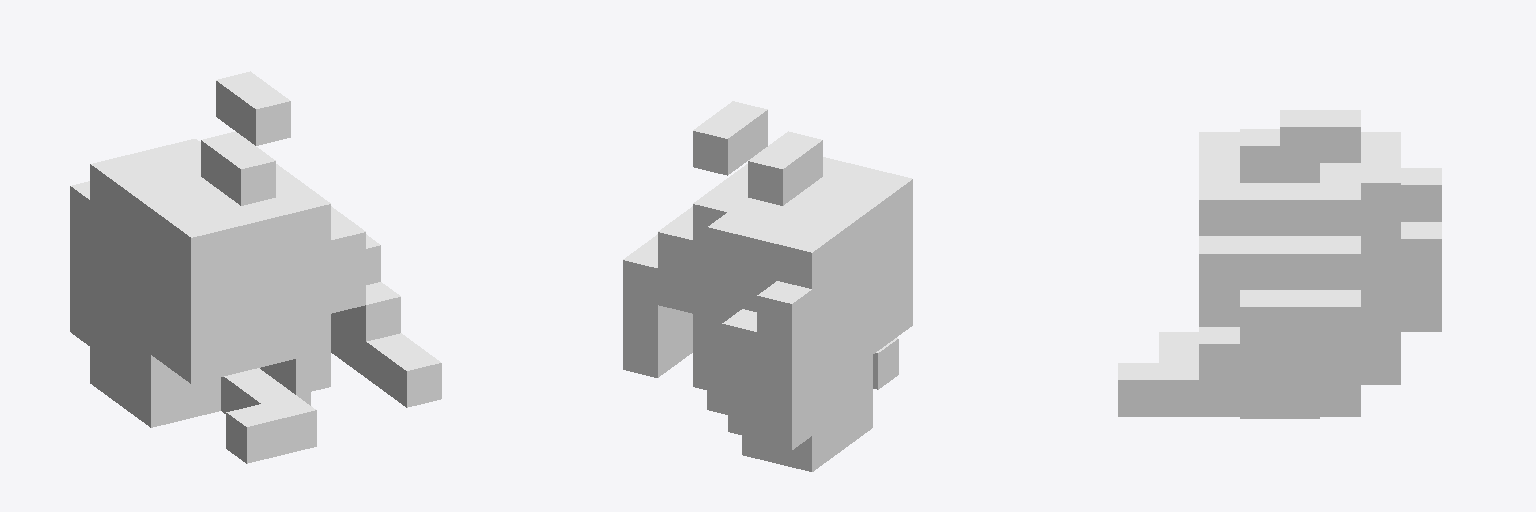
Rendered from SpaceInvader1.3.obj.
3 views of the same model, side by side, from view 1: azimuth 30°, elevation 25°; view 2: azimuth 150°, elevation 25°; view 3: azimuth 270°, elevation 25° (orthographic).
Parts seen in each view (by area): view 1: object 1; view 2: object 1; view 3: object 1.
Boxes of the visible parts, <box> form: object 1: <box>70,71,441,463</box>; object 1: <box>623,101,912,471</box>; object 1: <box>1118,110,1441,418</box>.
Bounding box in the file's own units: 0.6 × 0.8 × 0.8.